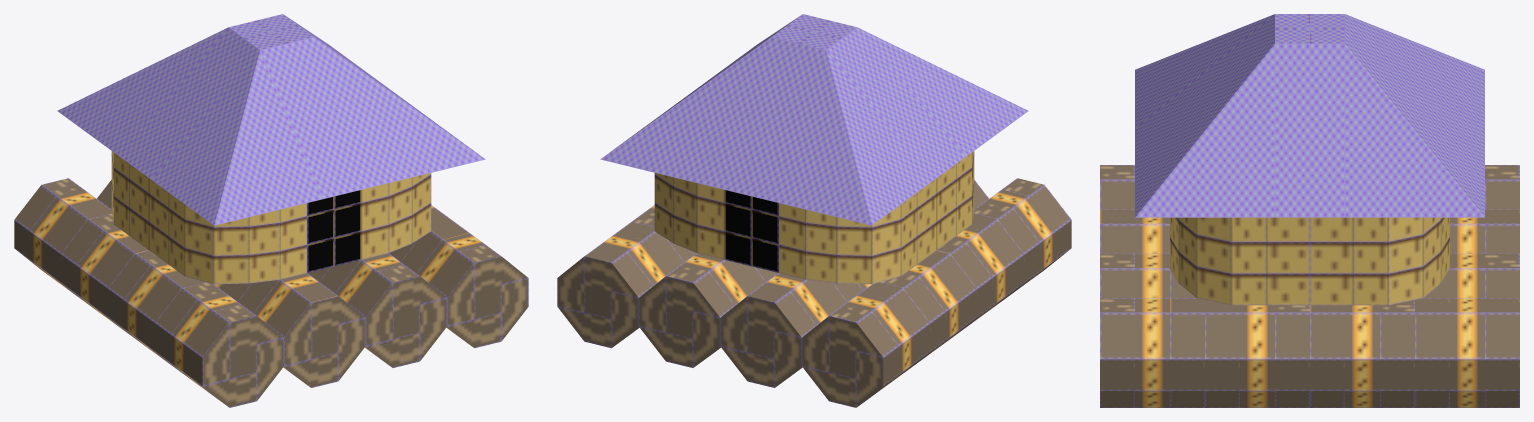
The model's file is Lodging.fbx.
3 views of the same model, side by side, from view 1: azimuth 30°, elevation 25°; view 2: azimuth 150°, elevation 25°; view 3: azimuth 270°, elevation 25° (orthographic). The views are drawn at different scales.
Parts seen in each view (by area): view 1: Lodging; view 2: Lodging; view 3: Lodging.
Boxes of the visible parts, x1,y1,x2,y2 form: Lodging: [14, 14, 528, 407]; Lodging: [557, 14, 1071, 407]; Lodging: [1100, 14, 1519, 407].
Size of the model in its own units: 600 by 481 by 600.
